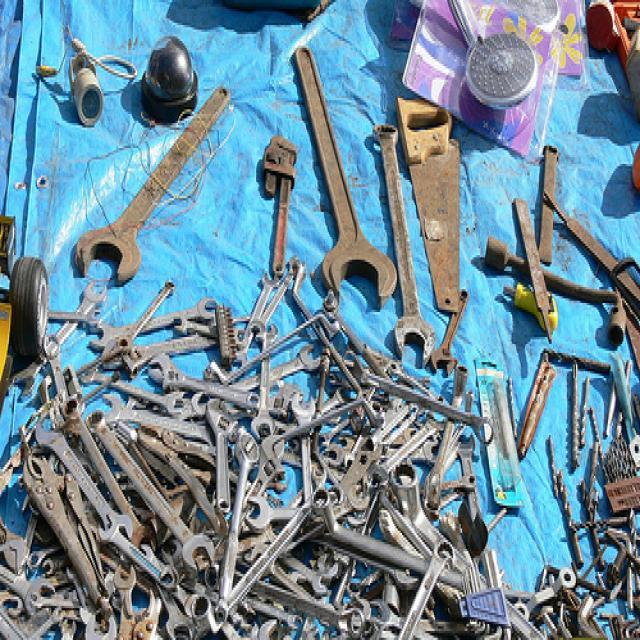wrench: (72, 84, 232, 286), (291, 42, 399, 310), (373, 115, 440, 366), (94, 511, 172, 588), (432, 289, 476, 376)
